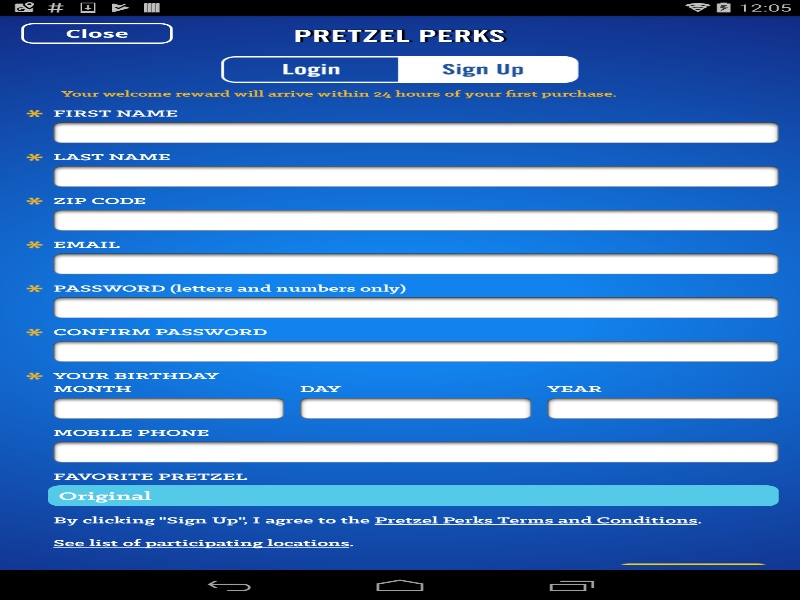Button: (608, 559, 778, 592), (221, 56, 400, 82), (400, 56, 578, 82)
Input: (53, 122, 778, 143), (53, 165, 778, 186), (53, 209, 778, 230), (53, 253, 778, 274), (53, 297, 778, 318), (53, 340, 778, 361), (53, 441, 778, 462)
